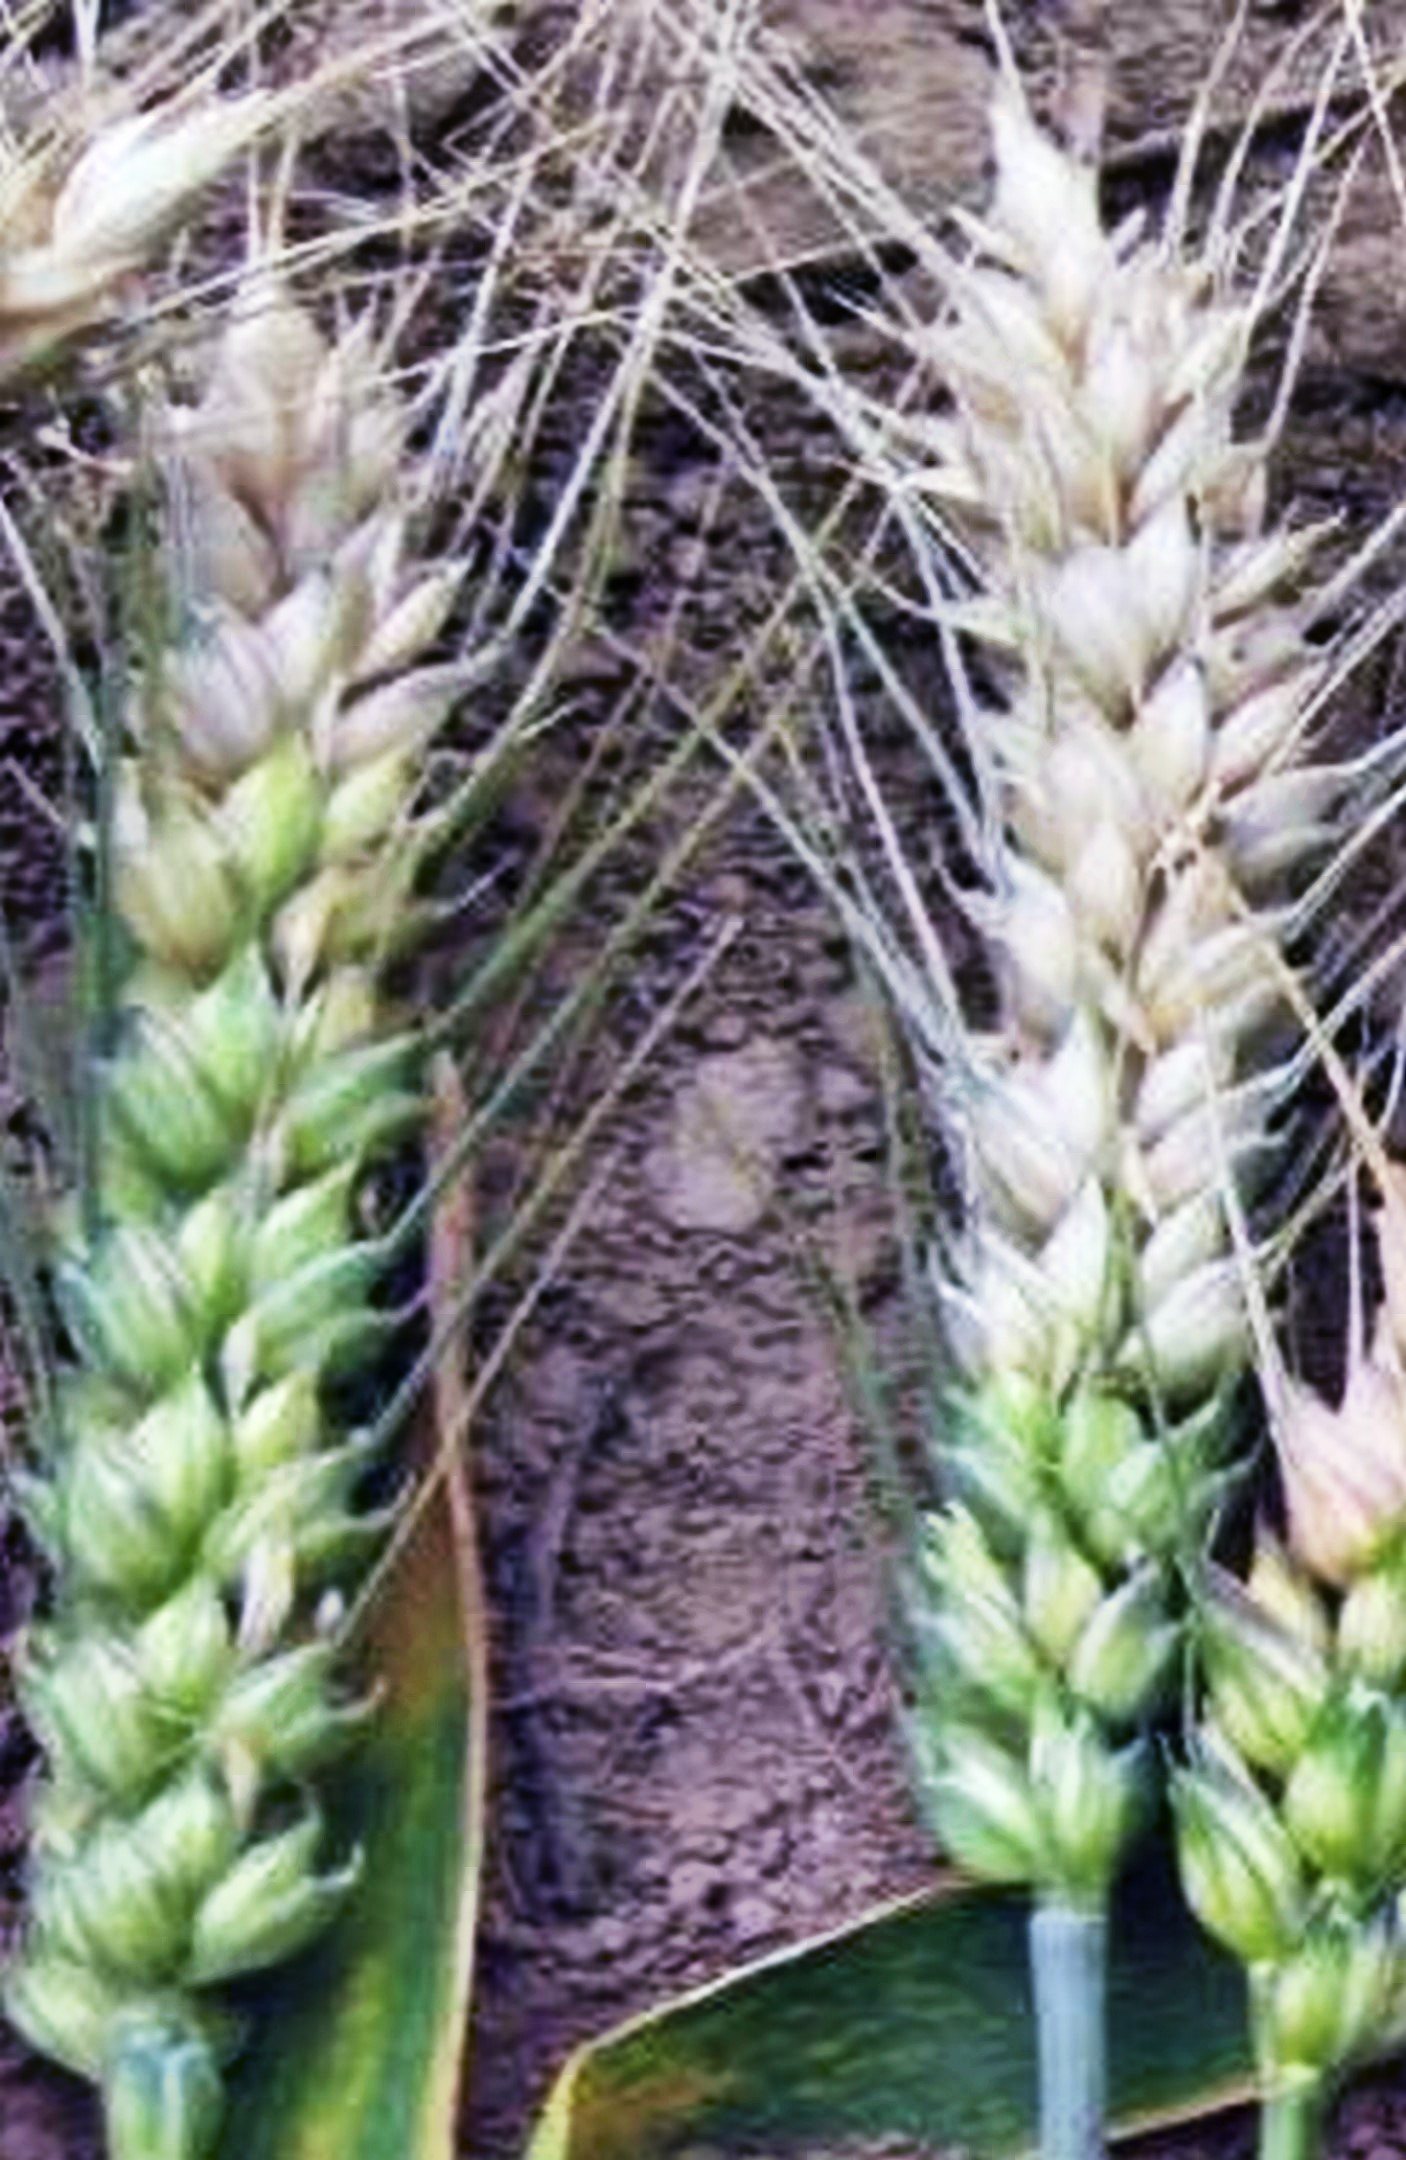Wheat scab: (25, 261, 513, 2092), (845, 126, 1334, 1896)
